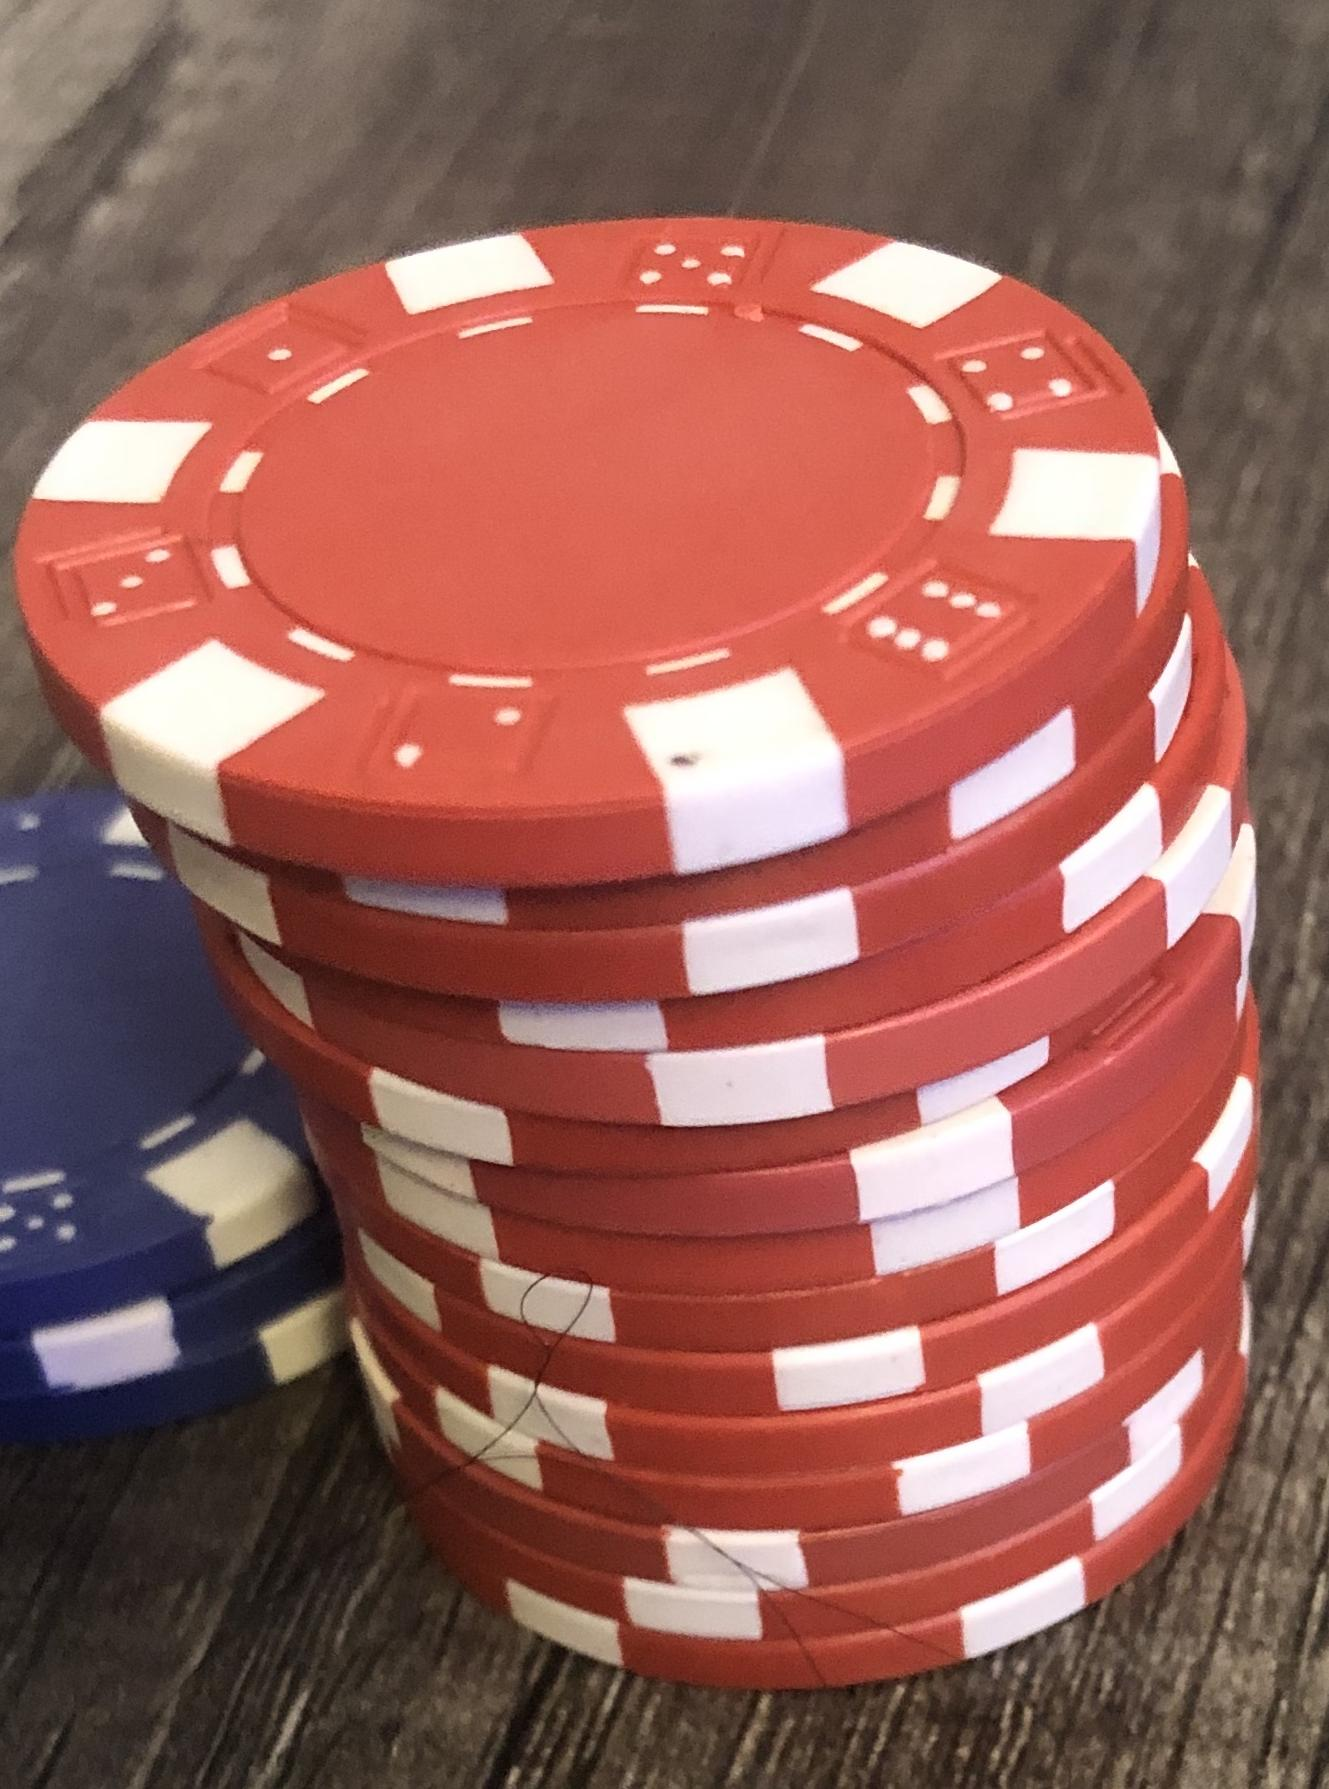Chip: (1, 1, 1329, 1789)
